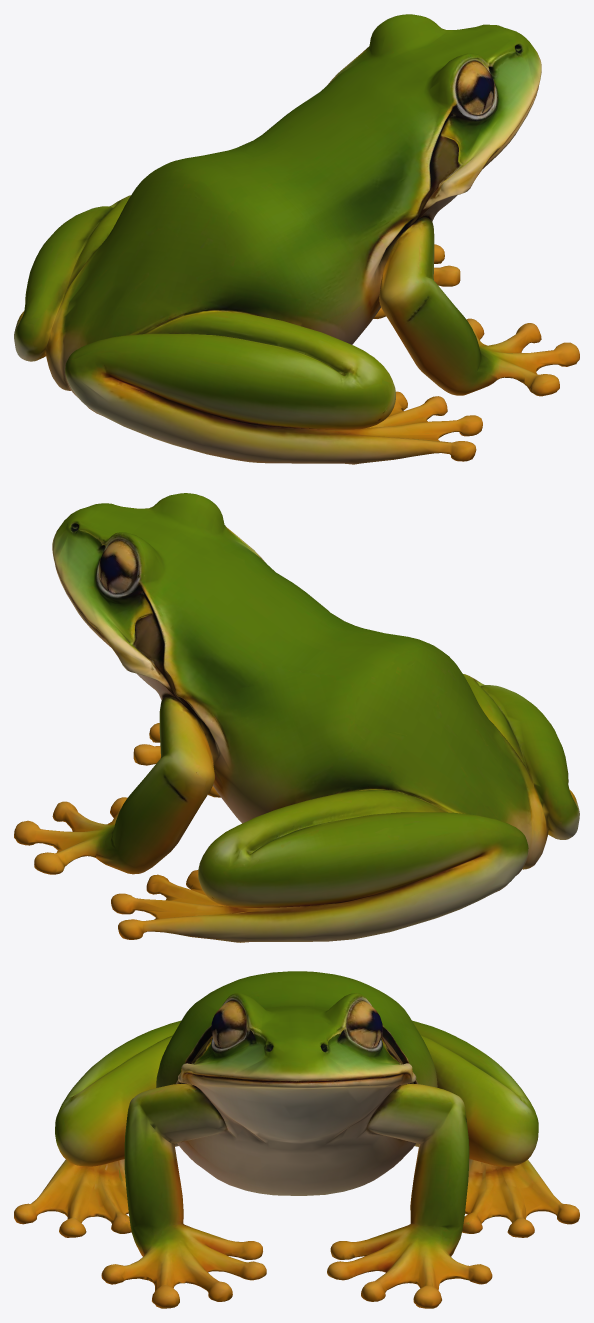
Rendered from green-tree-frog.glb.
3 renders of one model, top to bottom at view 1: azimuth 30°, elevation 25°; view 2: azimuth 150°, elevation 25°; view 3: azimuth 270°, elevation 25°, orthographic. The views are drawn at different scales.
Visible parts, largest first — view 1: material; view 2: material; view 3: material.
Boxes of the visible parts, bbox=[...] form: material: bbox=[14, 14, 579, 464]; material: bbox=[14, 493, 579, 942]; material: bbox=[14, 971, 579, 1308].
Bounding box in the file's own units: 1.01 × 0.5784 × 1.06.
Materials: 1 (1 with a texture image).
